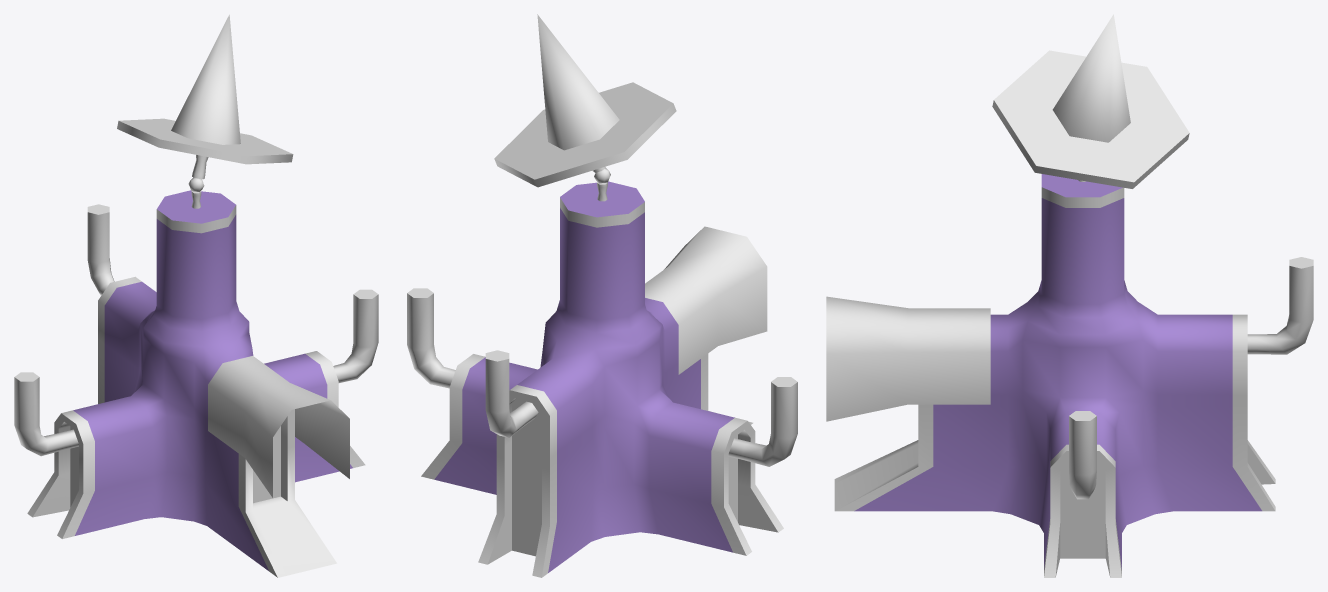
The model's file is LonweiLab.fbx.
3 views of the same model, side by side, from view 1: azimuth 30°, elevation 25°; view 2: azimuth 150°, elevation 25°; view 3: azimuth 270°, elevation 25° (orthographic). The views are drawn at different scales.
Visible parts, largest first — view 1: LonweiLab, Shade, Hat, ChimneySide.001, ChimneySide, Chimney; view 2: LonweiLab, Hat, Shade, ChimneySide.001, ChimneySide, Chimney; view 3: LonweiLab, Hat, Shade, Chimney, ChimneySide.
Boxes of the visible parts, x1,y1,x2,y2 form: LonweiLab: (27, 190, 365, 577); Shade: (208, 356, 349, 497); Hat: (117, 14, 293, 164); ChimneySide.001: (14, 372, 78, 456); ChimneySide: (333, 289, 378, 382); Chimney: (87, 204, 114, 295); LonweiLab: (421, 181, 783, 577); Hat: (494, 14, 676, 187); Shade: (645, 226, 767, 374); ChimneySide.001: (728, 377, 797, 466); ChimneySide: (407, 288, 455, 388); Chimney: (485, 350, 538, 437); LonweiLab: (834, 174, 1275, 577); Hat: (992, 14, 1189, 188); Shade: (826, 296, 990, 421); Chimney: (1247, 257, 1313, 354); ChimneySide: (1069, 411, 1096, 499).
Size of the model in its own units: 18.56 by 22.5 by 19.61.
